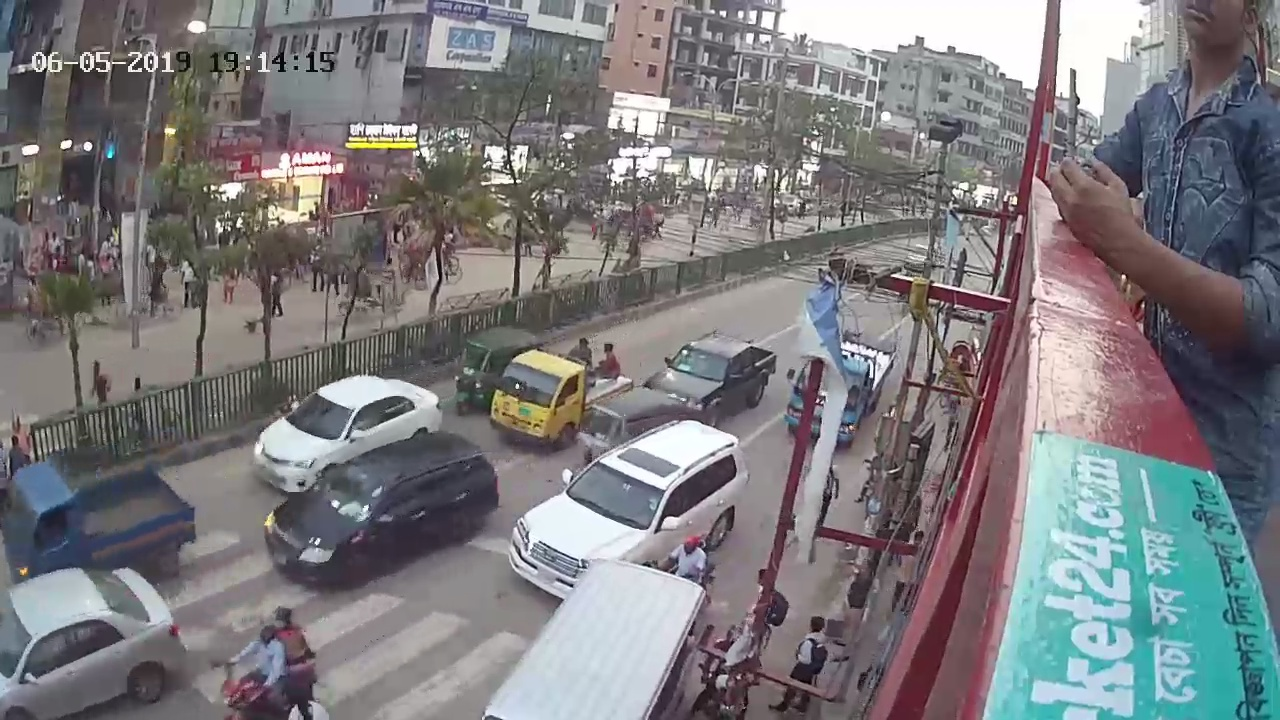fast_in: (504, 414, 755, 604), (474, 559, 735, 714), (261, 433, 506, 596), (6, 455, 197, 596), (249, 370, 450, 501), (488, 335, 644, 450), (210, 606, 336, 717), (647, 327, 783, 429), (577, 383, 695, 478), (447, 320, 545, 421), (653, 536, 727, 591)
